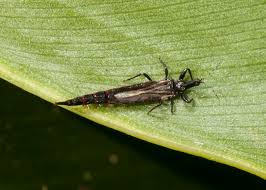Phlaeothripidae: (55, 59, 209, 115)
